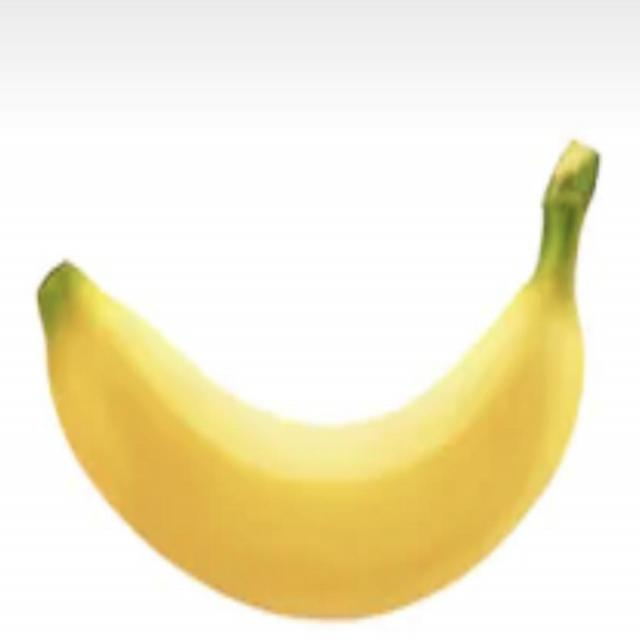banana: (0, 80, 638, 616)
